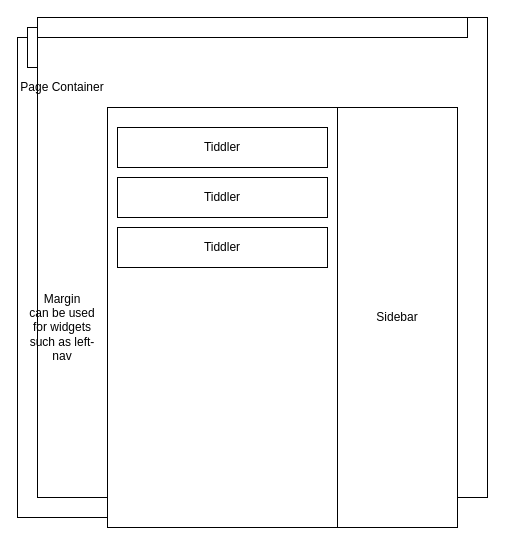
This 505x545 diagram has some shape labels left out. The box of each missing label's shape, as (x1, y1, x2, y2) in pixels:
DropZone Dragover on top: (36, 16, 468, 38)
Story River: (106, 106, 338, 528)
